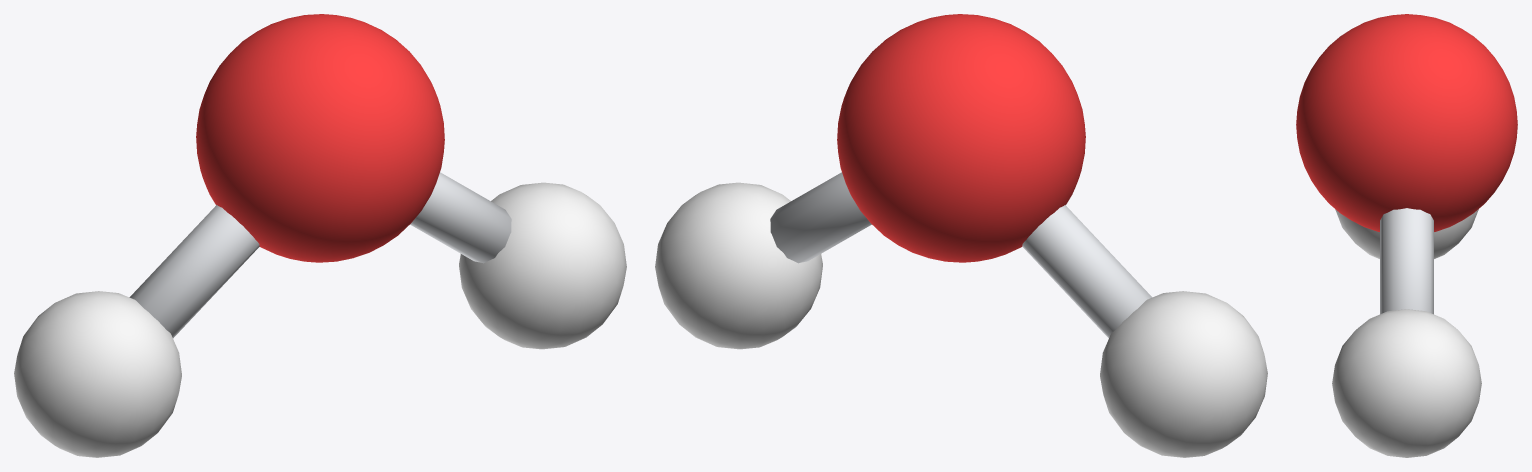
Rendered from molecule-water.glb.
3 views of the same model, side by side, from view 1: azimuth 30°, elevation 25°; view 2: azimuth 150°, elevation 25°; view 3: azimuth 270°, elevation 25° (orthographic). The views are drawn at different scales.
Visible parts, largest first — view 1: oxygen_1, hydrogen_1, hydrogen_2, bonds; view 2: oxygen_1, hydrogen_1, hydrogen_2, bonds; view 3: oxygen_1, hydrogen_2, bonds, hydrogen_1.
Boxes of the visible parts, x1=… form: oxygen_1: x1=196, y1=14, x2=444, y2=262; hydrogen_1: x1=14, y1=291, x2=181, y2=457; hydrogen_2: x1=459, y1=182, x2=626, y2=349; bonds: x1=129, y1=172, x2=511, y2=338; oxygen_1: x1=837, y1=14, x2=1085, y2=262; hydrogen_1: x1=1100, y1=291, x2=1267, y2=457; hydrogen_2: x1=655, y1=182, x2=822, y2=349; bonds: x1=770, y1=172, x2=1152, y2=338; oxygen_1: x1=1296, y1=14, x2=1517, y2=231; hydrogen_2: x1=1332, y1=309, x2=1481, y2=457; bonds: x1=1380, y1=208, x2=1433, y2=314; hydrogen_1: x1=1335, y1=209, x2=1478, y2=258.
Bounding box in the file's own units: 0.1216 × 0.073 × 0.0444.
